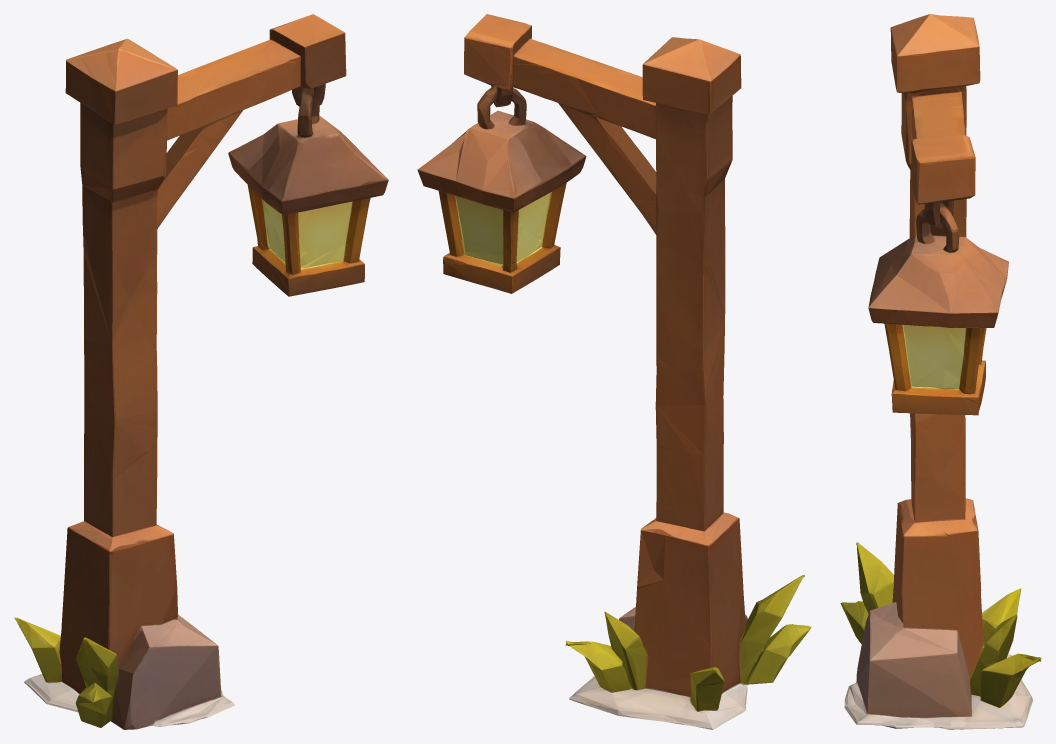
Rendered from KeepSakeLamp-v1.glb.
The picture shows the model from 3 angles, left to right: view 1: azimuth 30°, elevation 25°; view 2: azimuth 150°, elevation 25°; view 3: azimuth 270°, elevation 25°; orthographic projection. The views are drawn at different scales.
Parts seen in each view (by area): view 1: tripo_node_0461e50d-87fb-46f7-ae0e-c0b5f8940fb4; view 2: tripo_node_0461e50d-87fb-46f7-ae0e-c0b5f8940fb4; view 3: tripo_node_0461e50d-87fb-46f7-ae0e-c0b5f8940fb4.
Part boxes in pixels (bbox=[...]): tripo_node_0461e50d-87fb-46f7-ae0e-c0b5f8940fb4: bbox=[14, 14, 388, 729]; tripo_node_0461e50d-87fb-46f7-ae0e-c0b5f8940fb4: bbox=[417, 14, 811, 729]; tripo_node_0461e50d-87fb-46f7-ae0e-c0b5f8940fb4: bbox=[840, 14, 1041, 729].
Bounding box in the file's own units: 0.5052 × 0.9822 × 0.2665.
1 material, 1 textured.
